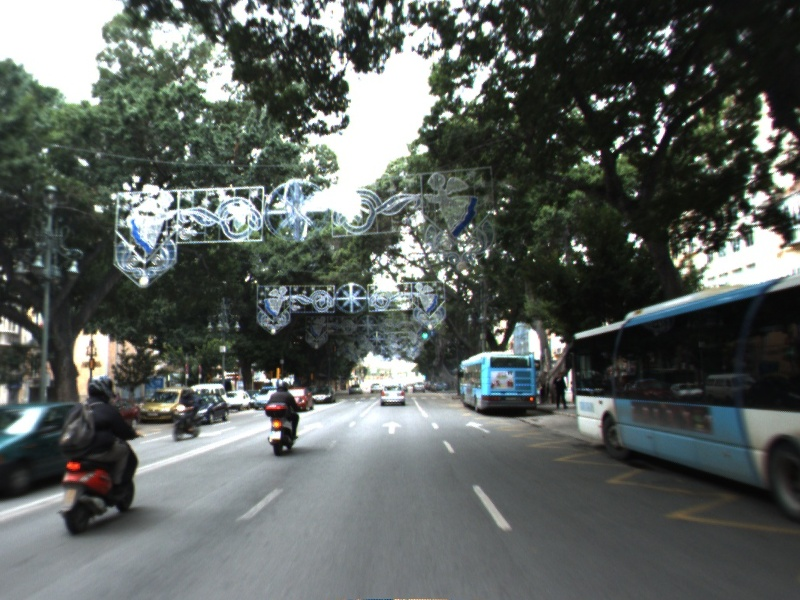STRAIGHT: (464, 419, 493, 435), (296, 420, 325, 436), (380, 419, 404, 436)
